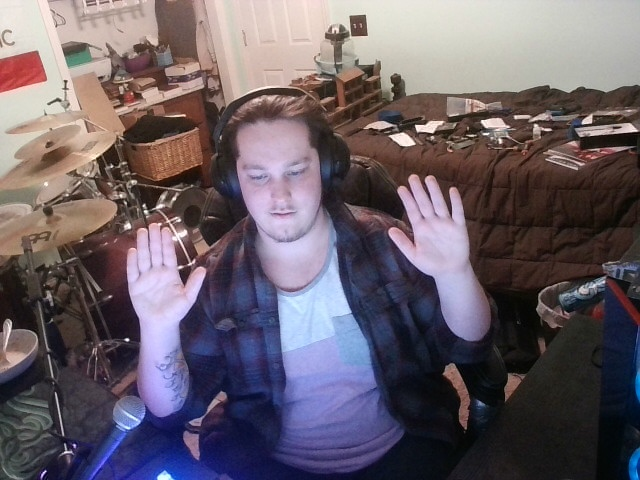great: (100, 170, 490, 322)
